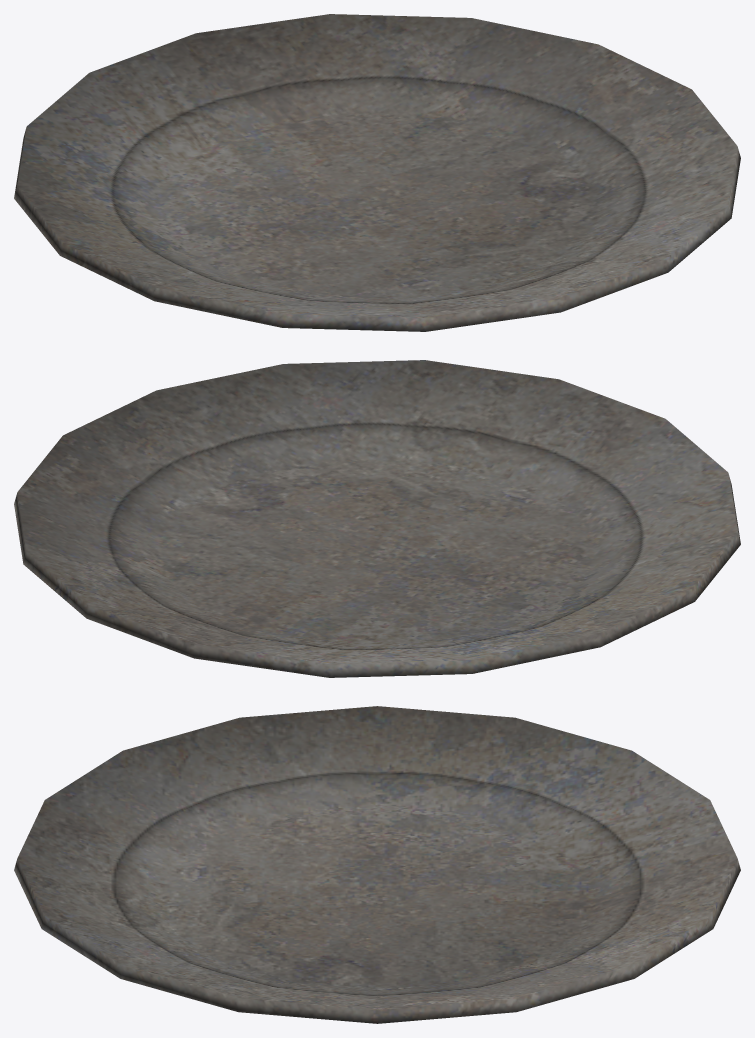
Rendered from plate2.fbx.
3 renders of one model, top to bottom at view 1: azimuth 30°, elevation 25°; view 2: azimuth 150°, elevation 25°; view 3: azimuth 270°, elevation 25°, orthographic.
Parts seen in each view (by area): view 1: pCylinder29; view 2: pCylinder29; view 3: pCylinder29.
Part boxes in pixels (x1,y1,x2,y2): pCylinder29: (14,14,740,331); pCylinder29: (14,360,740,677); pCylinder29: (14,706,740,1023).
Bounding box in the file's own units: 0.2757 × 0.0232 × 0.2757.
